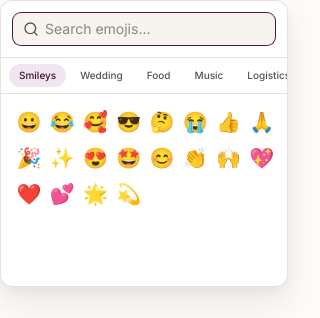
Scenario: EmojiPicker › renders categories and filters emojis
Expected: the button "😀" is shown, [13, 106, 45, 138]
Expected: the text "👰" is not shown
// Click Wedding Category
Step 1. Click the button "Wedding" → (101, 76), box [70, 64, 133, 87]
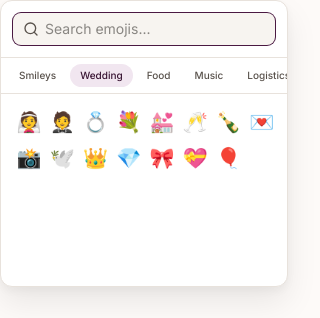
Result: the button "👰" is shown at [13, 106, 45, 138]
Result: the button "😀" is gone
